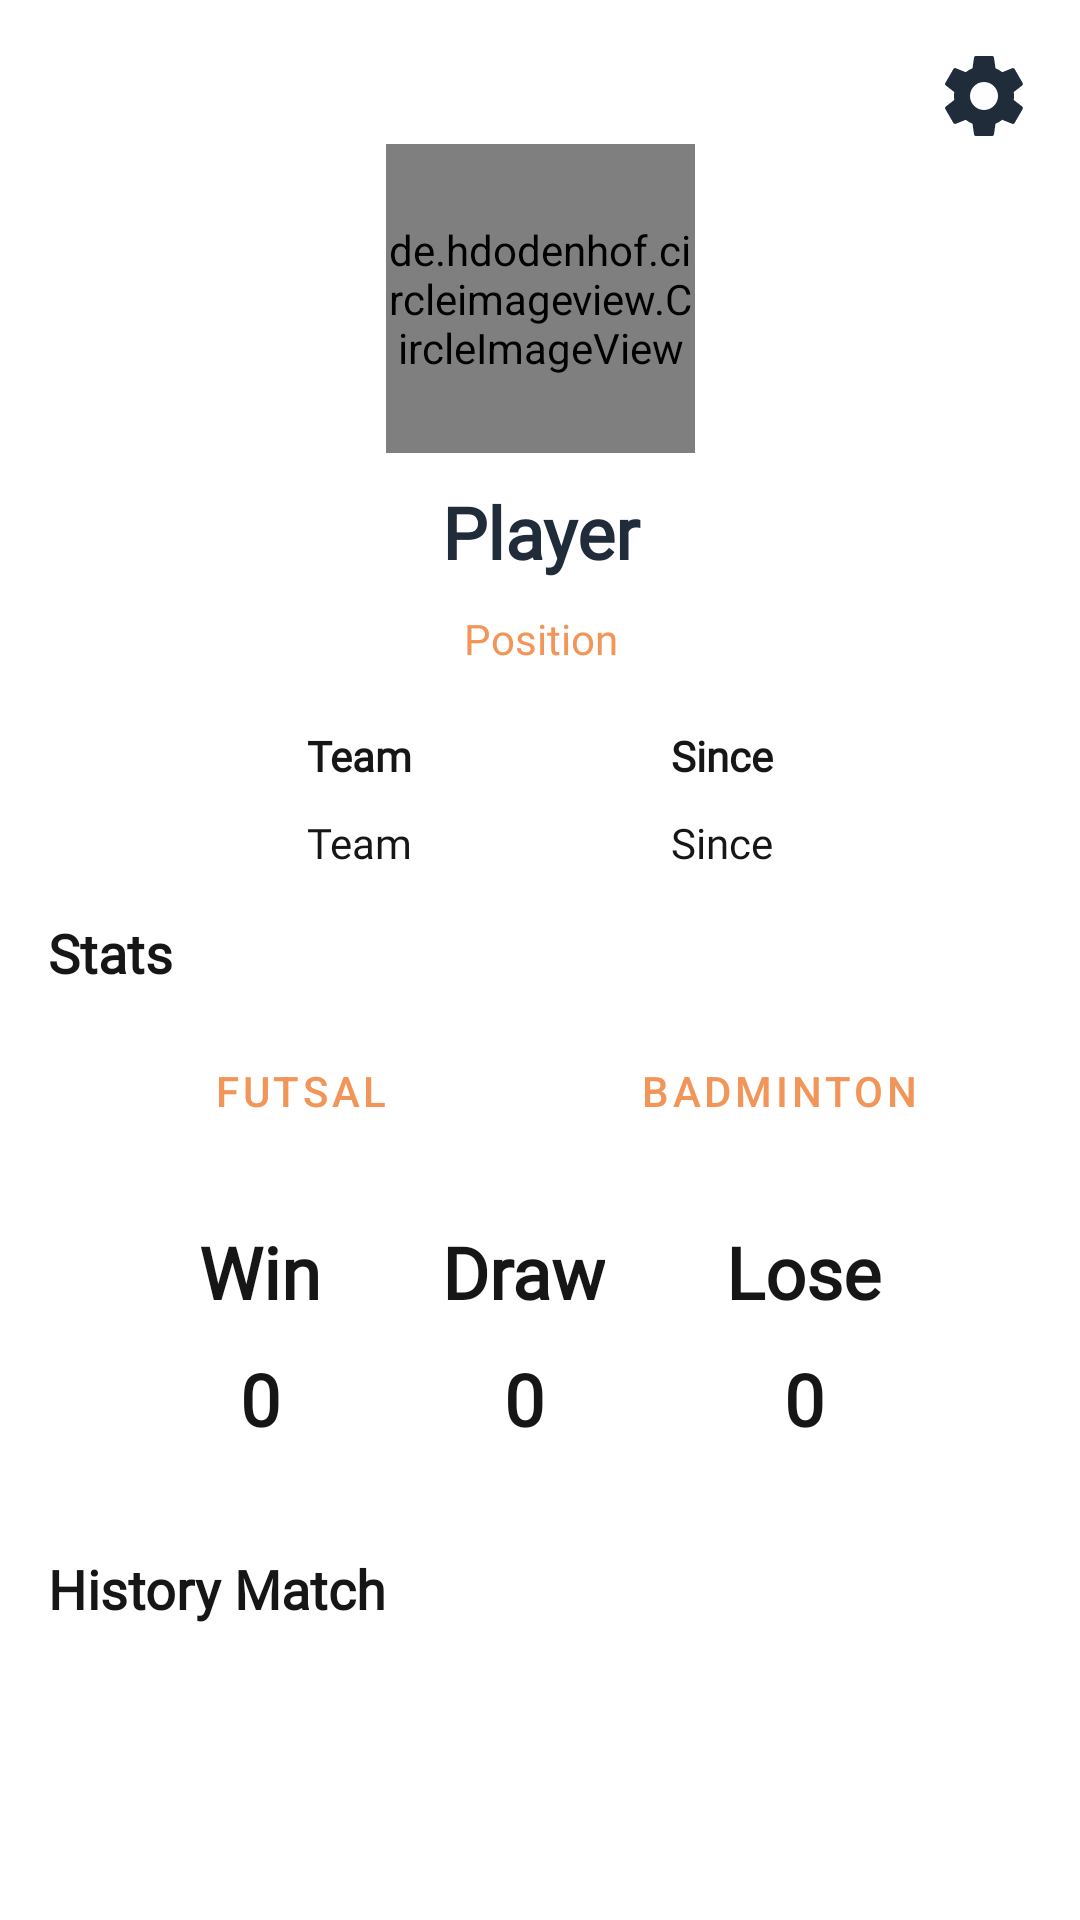

Icon click points for this 1080×1920 phone screenshot, format point (x, y):
settings: point (984, 96)
